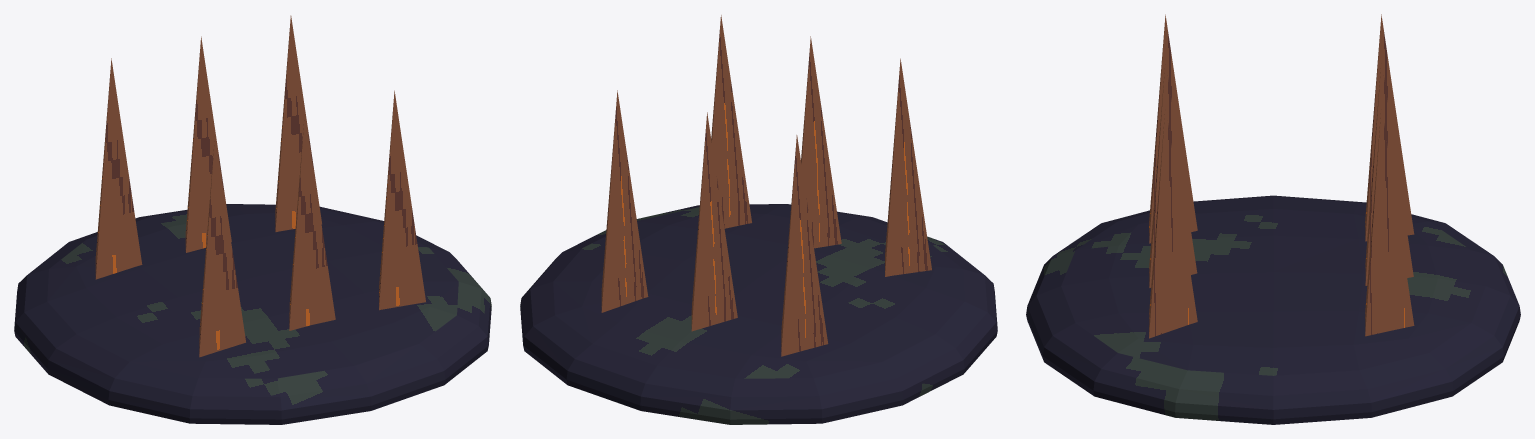
Rendered from PrototypeRaven.obj.
3 renders of one model, left to right at view 1: azimuth 30°, elevation 25°; view 2: azimuth 150°, elevation 25°; view 3: azimuth 270°, elevation 25°, orthographic. The views are drawn at different scales.
Visible parts, largest first — view 1: Base.003, Cone.008, Cone.009, Cone.010, Cone.012, Cone.011, Cone.013; view 2: Base.003, Cone.010, Cone.008, Cone.011, Cone.013, Cone.009, Cone.012; view 3: Base.003, Cone.011, Cone.009, Cone.010, Cone.008, Cone.013, Cone.012.
Part boxes in pixels (x1,y1,x2,y2): Base.003: (14, 204, 491, 424); Cone.008: (199, 134, 245, 357); Cone.009: (379, 90, 425, 310); Cone.010: (95, 58, 142, 279); Cone.012: (289, 112, 335, 330); Cone.011: (275, 15, 321, 231); Cone.013: (185, 36, 231, 252); Base.003: (520, 204, 997, 424); Cone.010: (781, 135, 828, 356); Cone.008: (885, 58, 931, 276); Cone.011: (601, 90, 648, 312); Cone.013: (691, 112, 737, 331); Cone.009: (711, 15, 751, 228); Cone.012: (801, 36, 841, 248); Base.003: (1026, 195, 1520, 424); Cone.011: (1365, 105, 1414, 336); Cone.009: (1149, 106, 1197, 338); Cone.010: (1365, 14, 1414, 241); Cone.008: (1149, 14, 1197, 243); Cone.013: (1365, 60, 1413, 285); Cone.012: (1149, 60, 1197, 287).
Bounding box in the file's own units: 0.9167 × 0.5491 × 0.9167.
